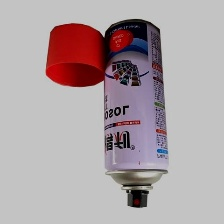aerosol_cans: (100, 14, 171, 215)
